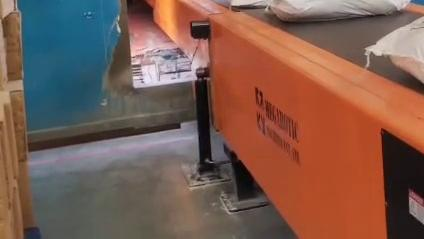box: (366, 17, 424, 84), (267, 0, 411, 21)
